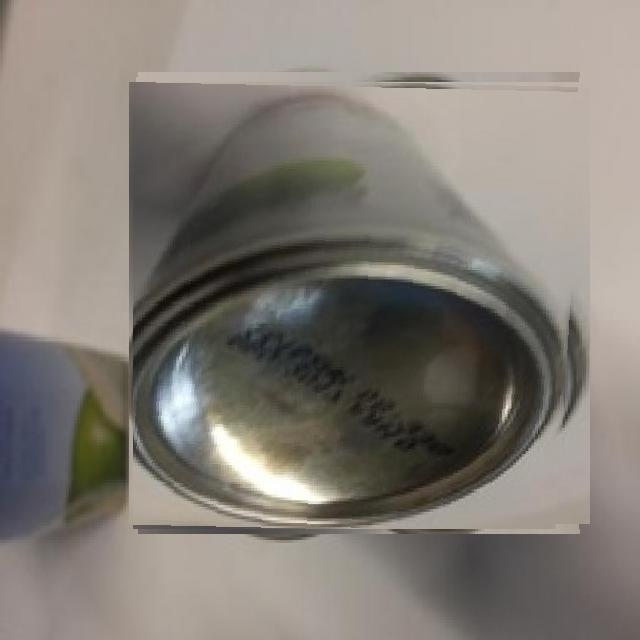recyclable: (134, 77, 586, 529)
